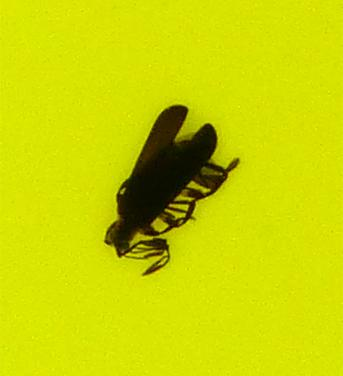Coleoptera: (100, 100, 243, 276)
